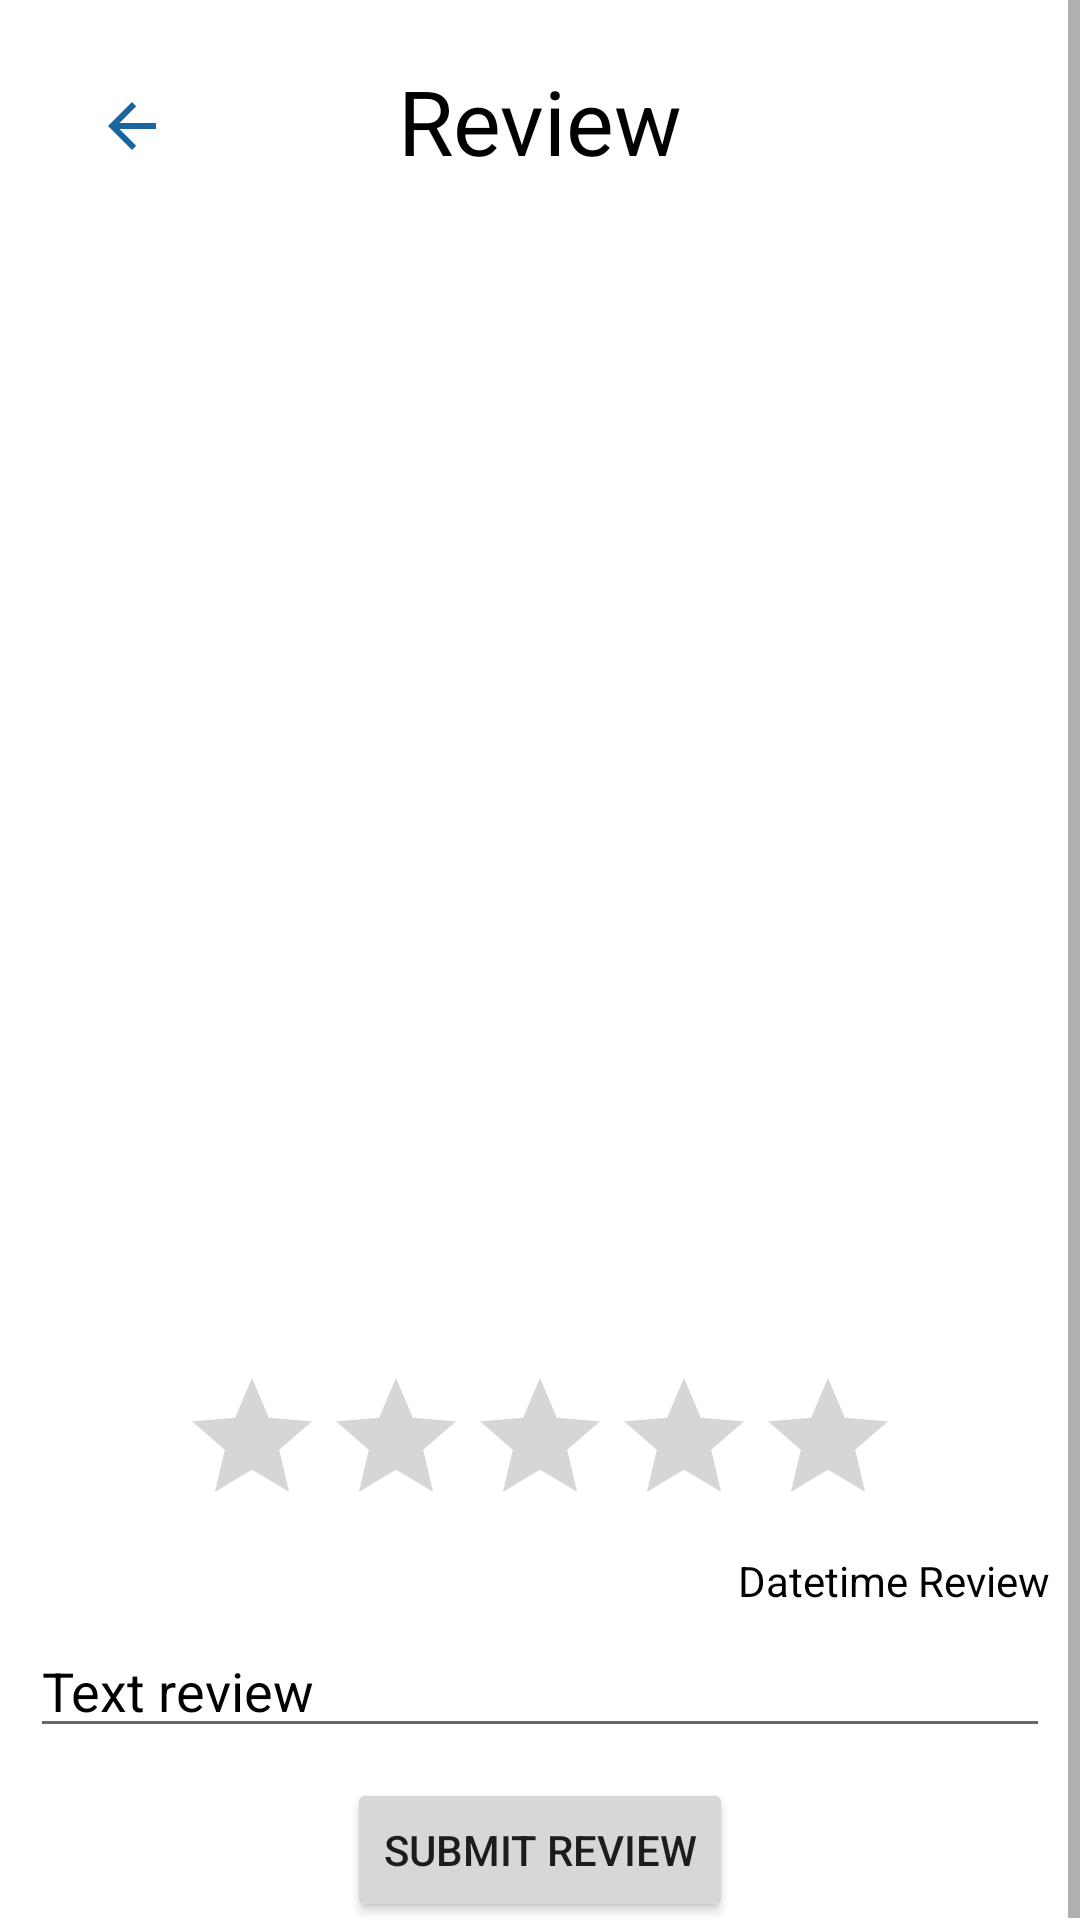

Where to tap for icons on this 1080×1920 app screen, as point (x, y):
arrow back: point (132, 126)
